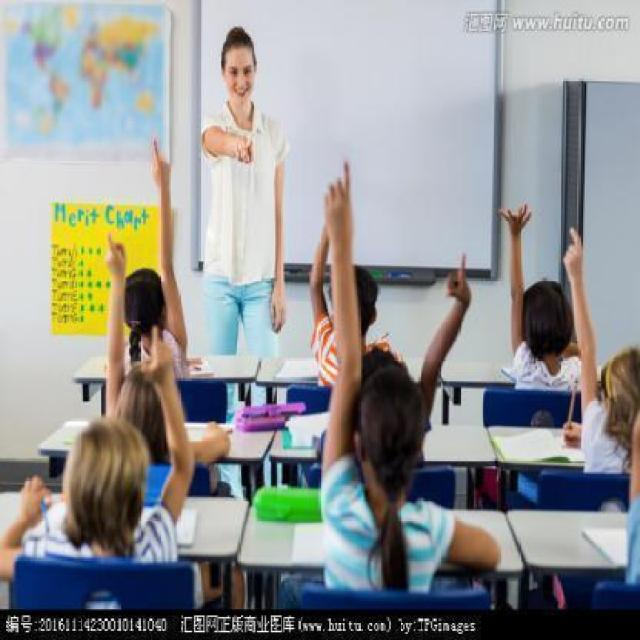face_nomask: (225, 54, 257, 101)
hand_noglove: (320, 158, 352, 242), (15, 474, 52, 529), (138, 324, 172, 378), (445, 254, 472, 306), (495, 203, 534, 234), (563, 226, 583, 282), (151, 134, 171, 186), (202, 422, 230, 458), (103, 227, 126, 267), (269, 290, 286, 332), (234, 134, 252, 164), (562, 422, 582, 448)
head_nohelmet: (338, 355, 437, 520), (68, 409, 157, 543), (518, 279, 576, 363), (323, 269, 388, 334), (126, 260, 176, 340), (601, 347, 640, 446), (218, 21, 262, 57)
person: (202, 8, 296, 354)
